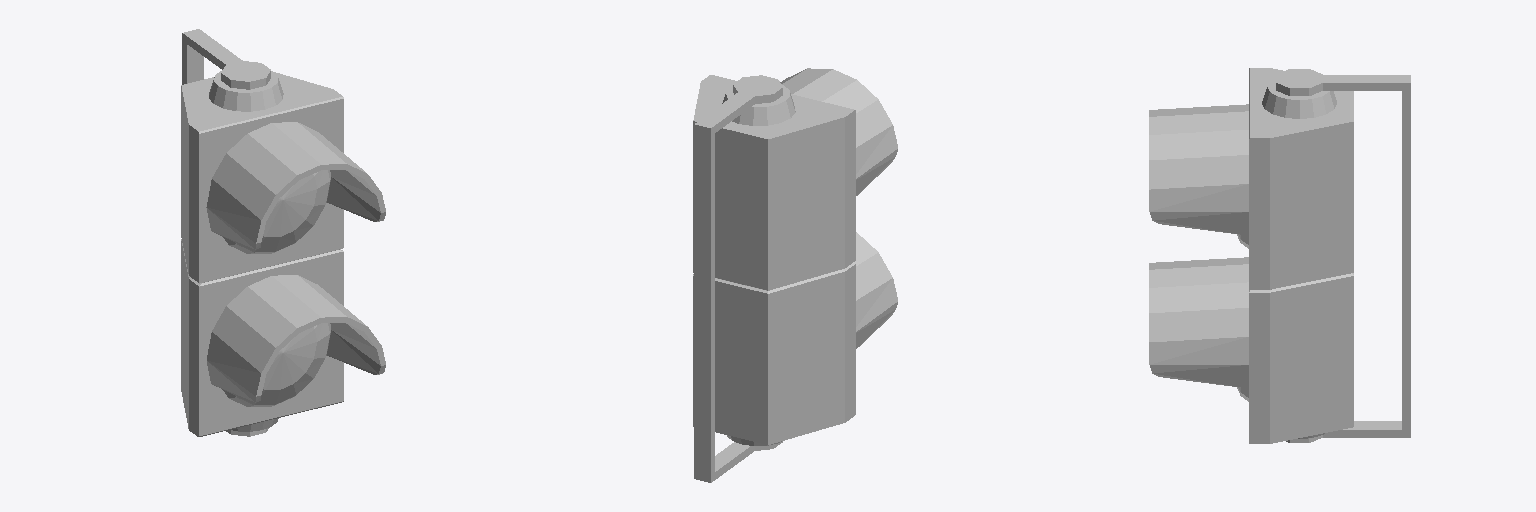
Rendered from ampel 2er.obj.
3 renders of one model, left to right at view 1: azimuth 30°, elevation 25°; view 2: azimuth 150°, elevation 25°; view 3: azimuth 270°, elevation 25°, orthographic.
Size of the model in its own units: 0.33 by 0.7736 by 0.5161.